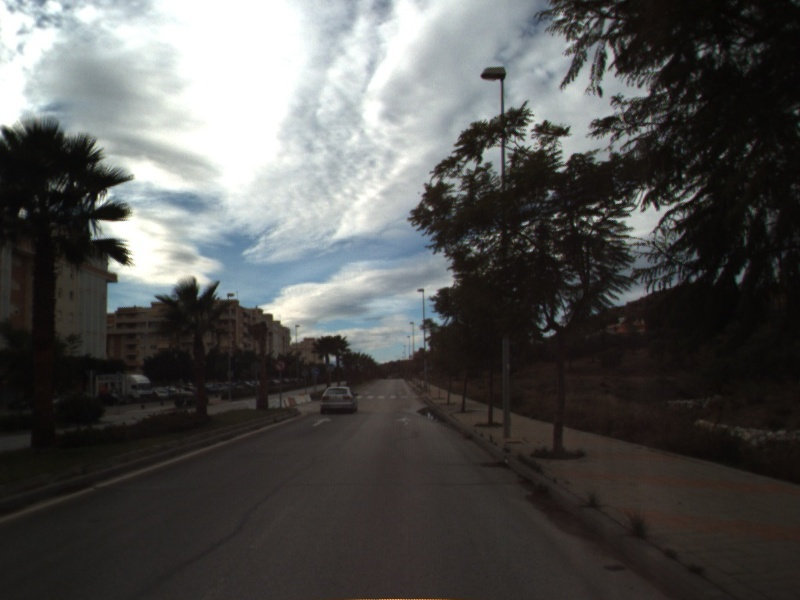STRAIGHT: (310, 415, 334, 428)
